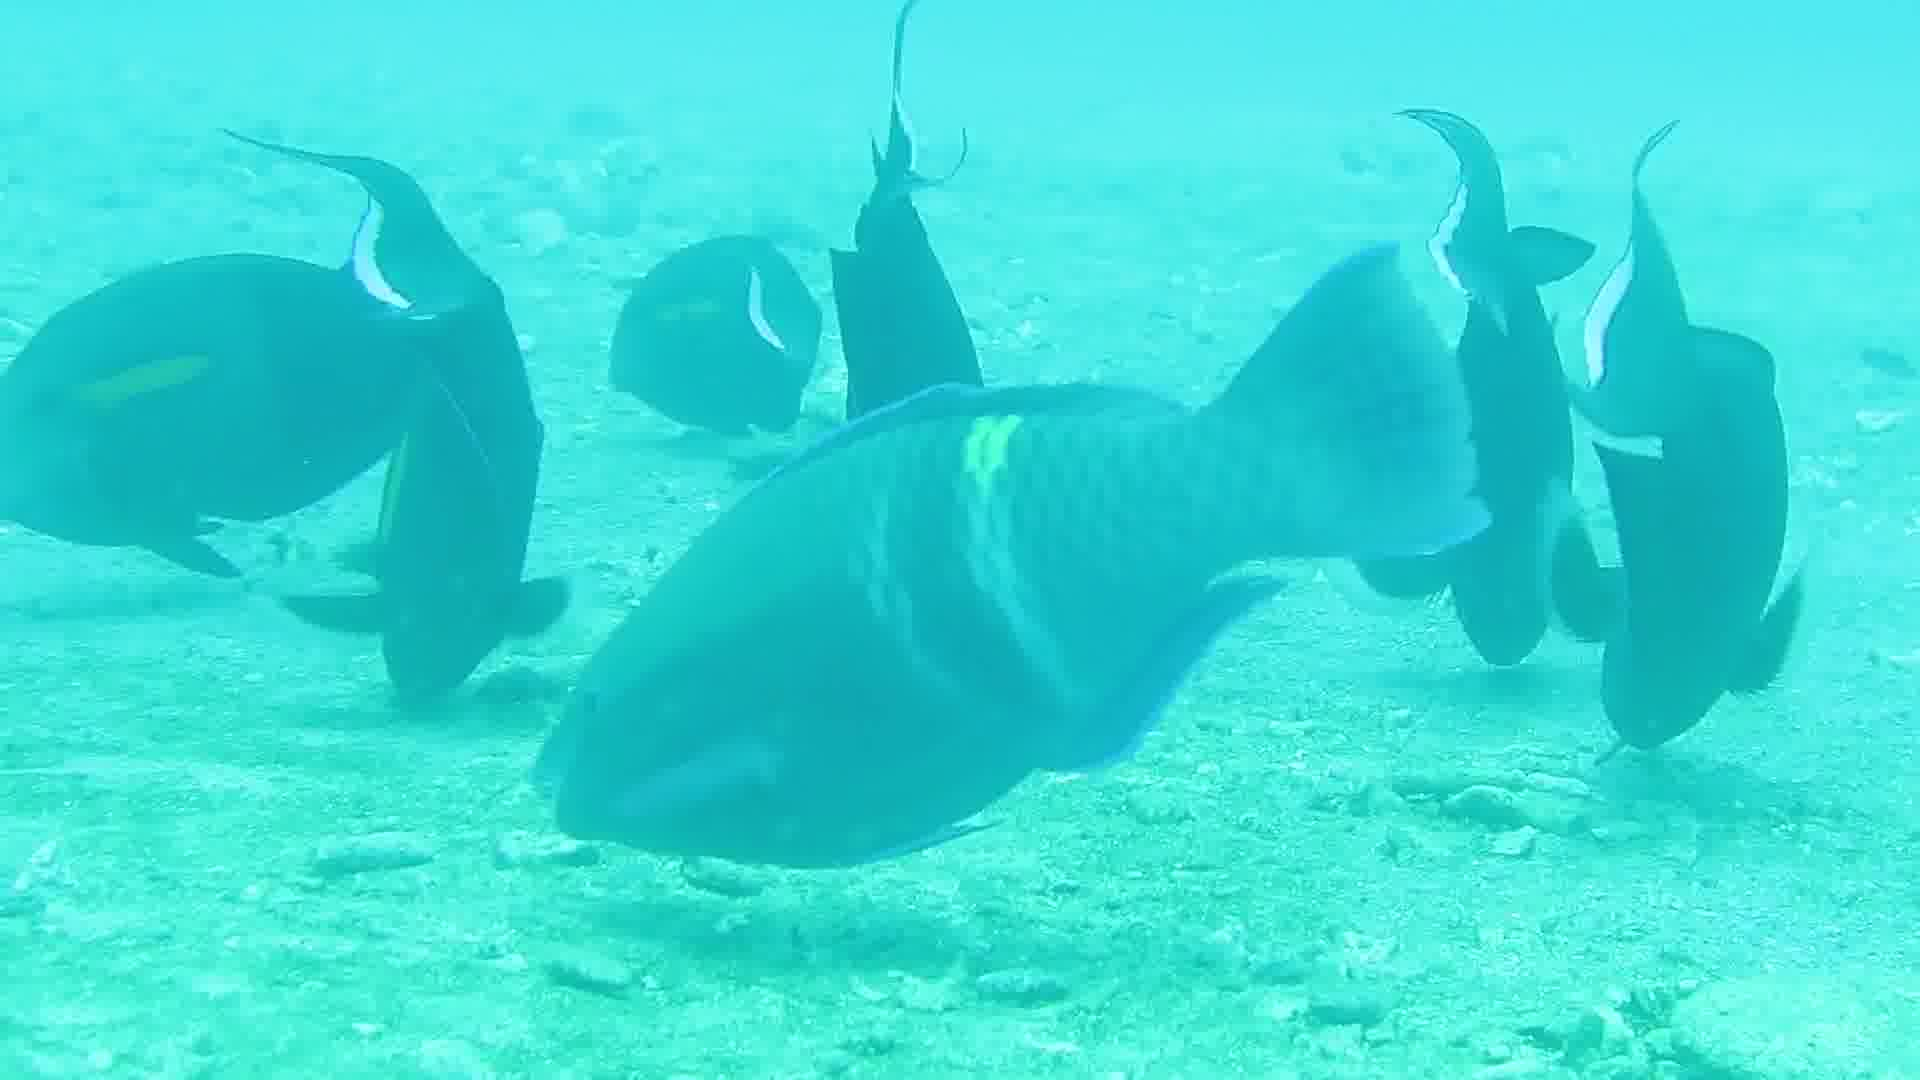Acanthurus olivaceus: (534, 313, 1487, 934), (1573, 74, 1920, 824), (336, 61, 607, 724), (1, 251, 487, 570)
